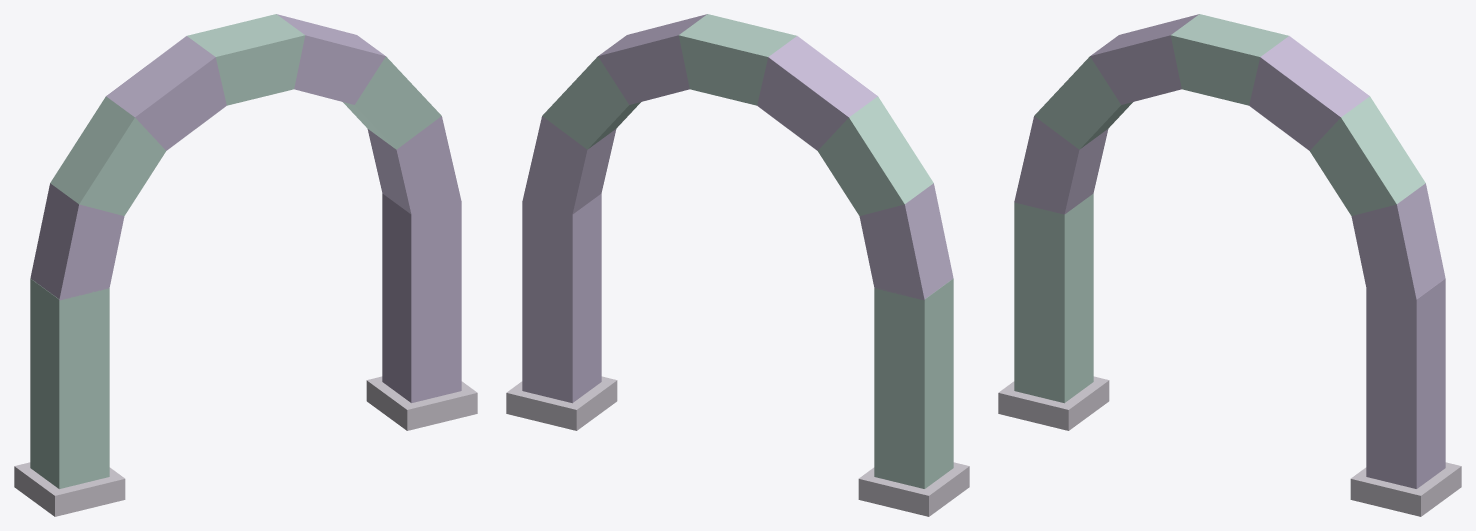
File: arch_pastel.glb
The picture shows the model from 3 angles, left to right: view 1: azimuth 30°, elevation 25°; view 2: azimuth 150°, elevation 25°; view 3: azimuth 330°, elevation 25°; orthographic projection.
Parts seen in each view (by area): view 1: Arch_pastel; view 2: Arch_pastel; view 3: Arch_pastel.
Boxes of the visible parts, <box> form: Arch_pastel: <box>14,14,477,516</box>; Arch_pastel: <box>506,14,969,516</box>; Arch_pastel: <box>998,14,1461,516</box>.
Bounding box in the file's own units: 4.2 × 3.94 × 0.7.
